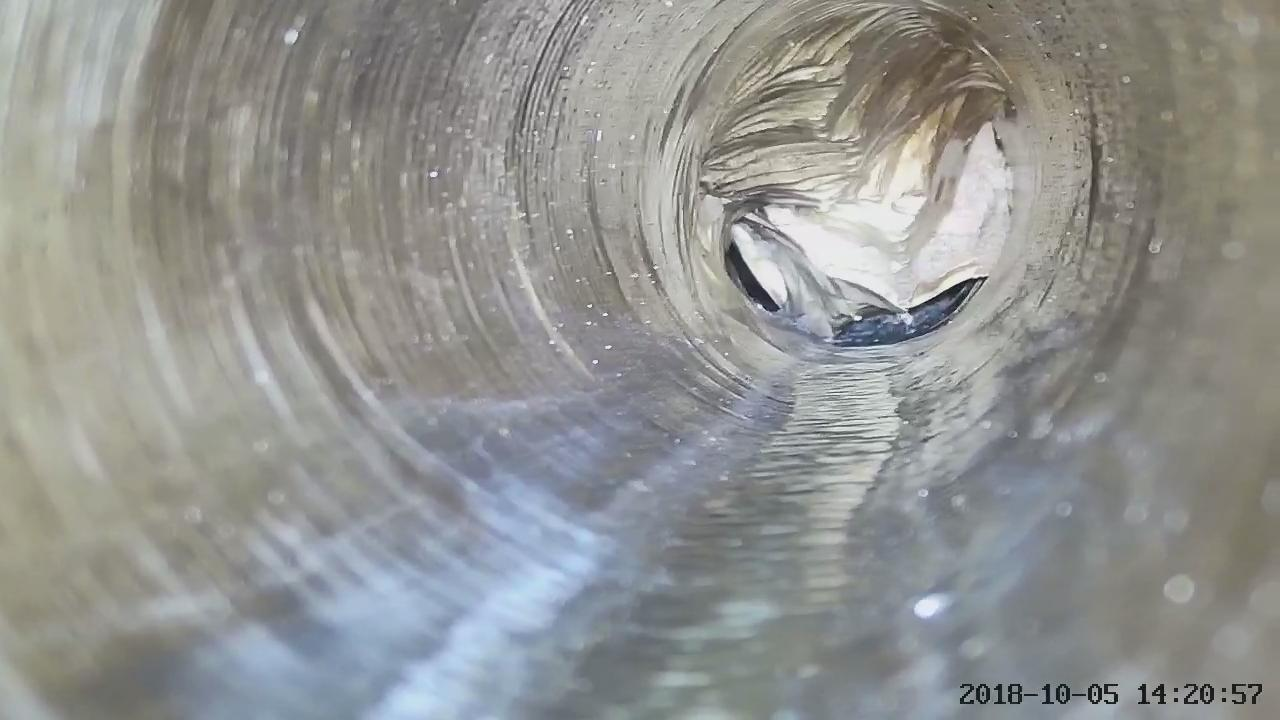BX: (692, 22, 1035, 348)
